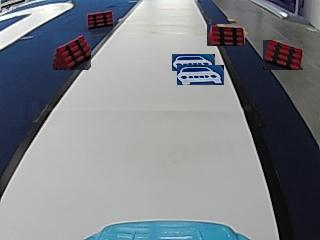bomb: (87, 9, 113, 27)
